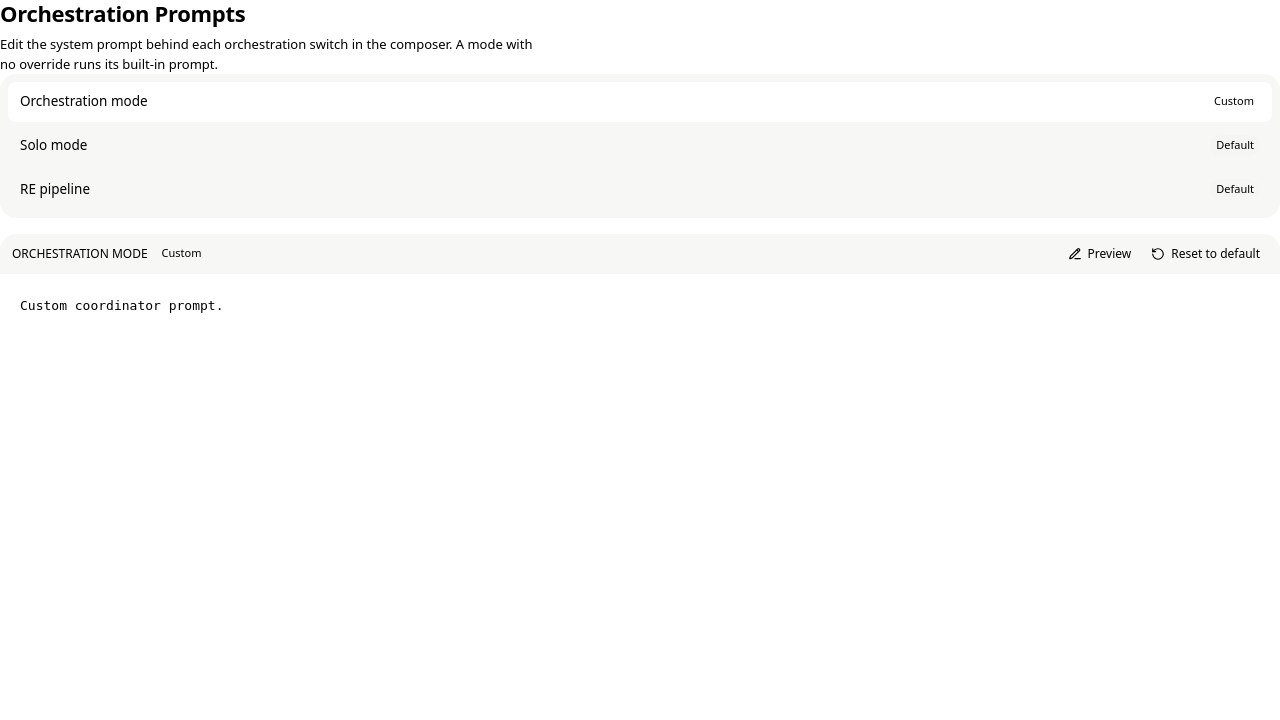
OrchestrationPromptSettings › resets a custom prompt through DELETE after confirmation
Click the button "Reset to default" at (1206,254), box [1143,242,1268,266]
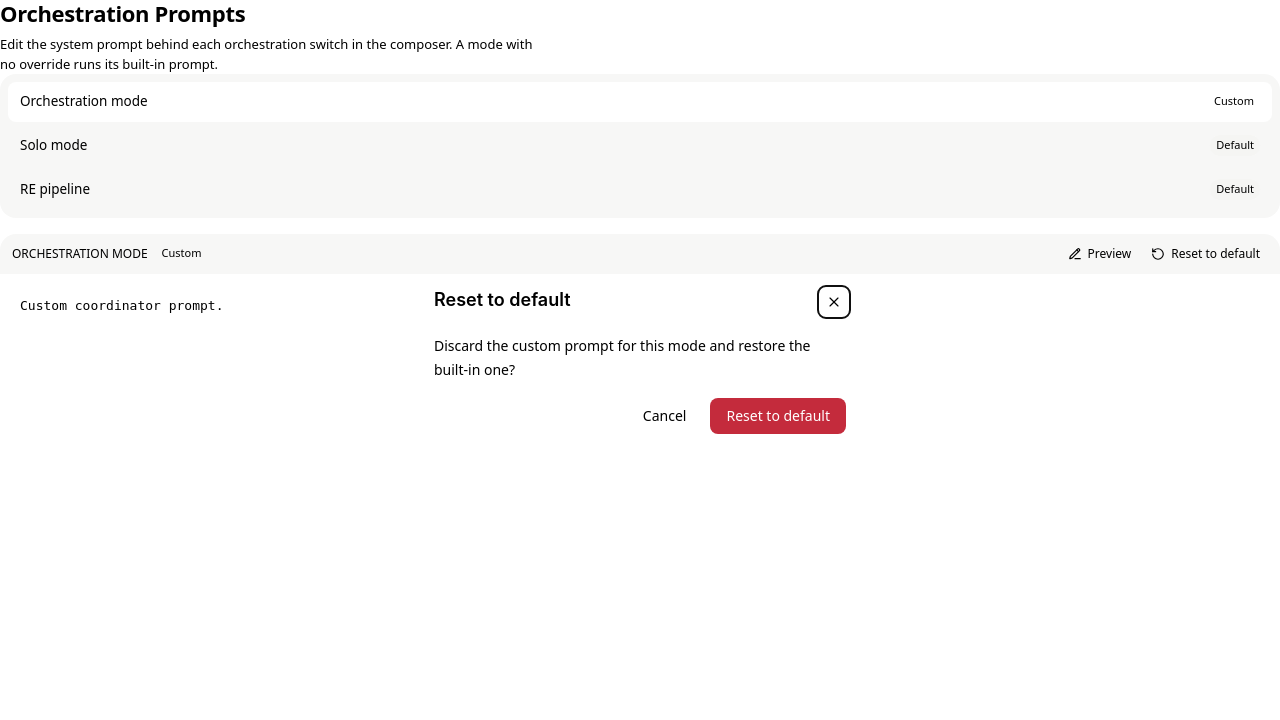
Click the button "Reset to default" at (778,416), box [710,398,846,434]
(page scrolled)
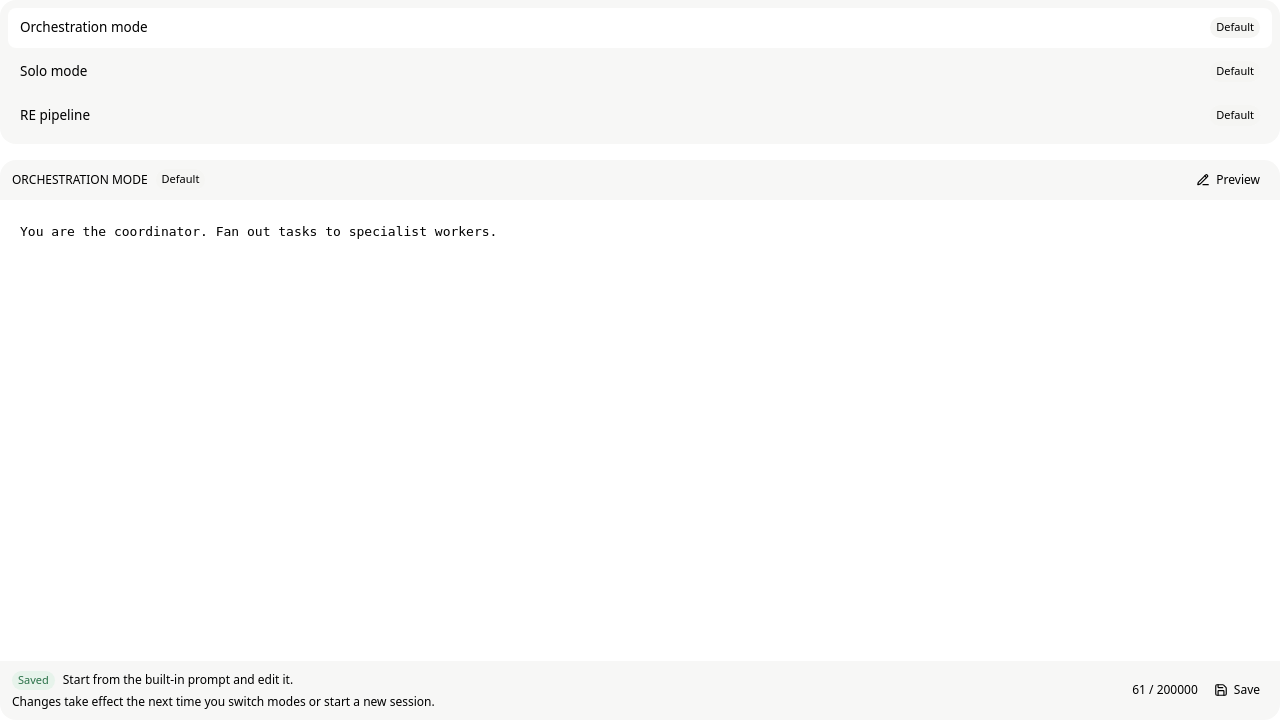
Now the text box named "Orchestration mode" holds "You are the coordinator. Fan out tasks to specialist workers."
Now the text "Default" is shown 4 times, box [1210,17,1260,38]; [1210,61,1260,82]; [1210,105,1260,126]; [156,169,205,190]
